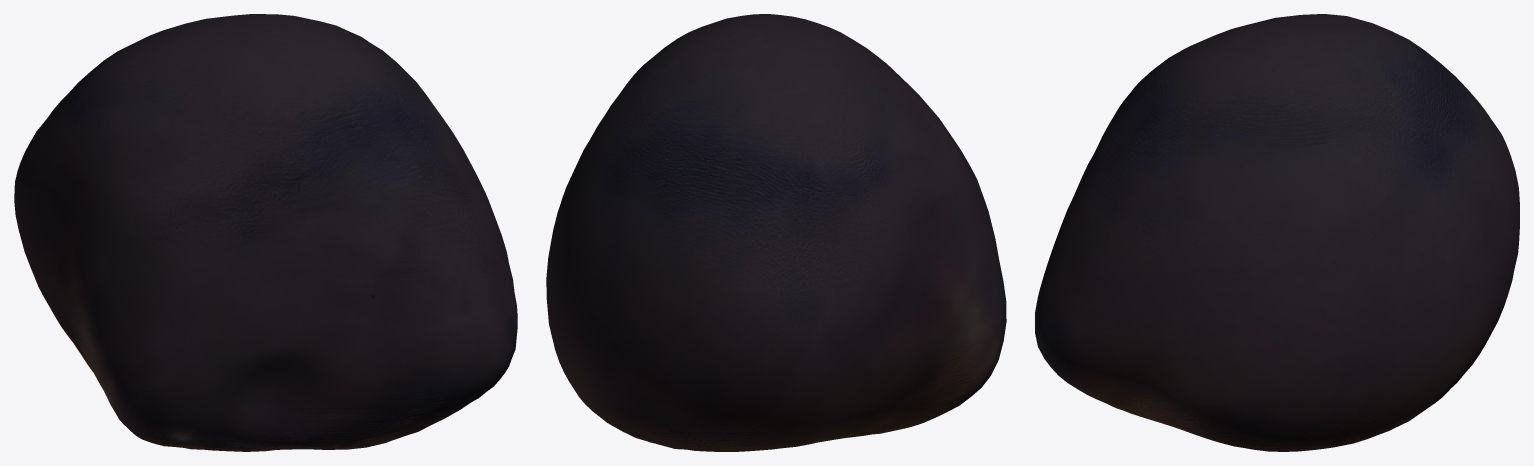
The model's file is selected.fbx.
3 views of the same model, side by side, from view 1: azimuth 30°, elevation 25°; view 2: azimuth 150°, elevation 25°; view 3: azimuth 270°, elevation 25° (orthographic). The views are drawn at different scales.
Visible parts, largest first — view 1: tripo_node_5eaf7fe3-228c-41cd-ae59-1b2b4f804823; view 2: tripo_node_5eaf7fe3-228c-41cd-ae59-1b2b4f804823; view 3: tripo_node_5eaf7fe3-228c-41cd-ae59-1b2b4f804823.
Boxes of the visible parts, x1,y1,x2,y2 form: tripo_node_5eaf7fe3-228c-41cd-ae59-1b2b4f804823: (14,14,517,451); tripo_node_5eaf7fe3-228c-41cd-ae59-1b2b4f804823: (546,14,1006,451); tripo_node_5eaf7fe3-228c-41cd-ae59-1b2b4f804823: (1035,14,1519,451).
Size of the model in its own units: 0.8965 by 0.8184 by 0.998.
1 material, 1 textured.
